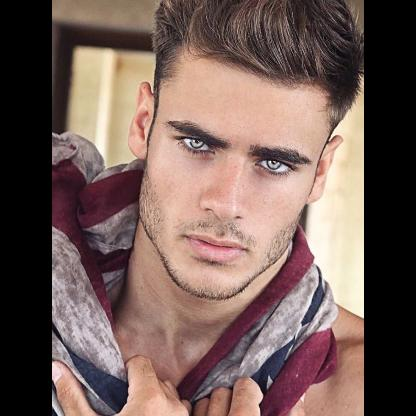Male: (127, 32, 342, 302)
